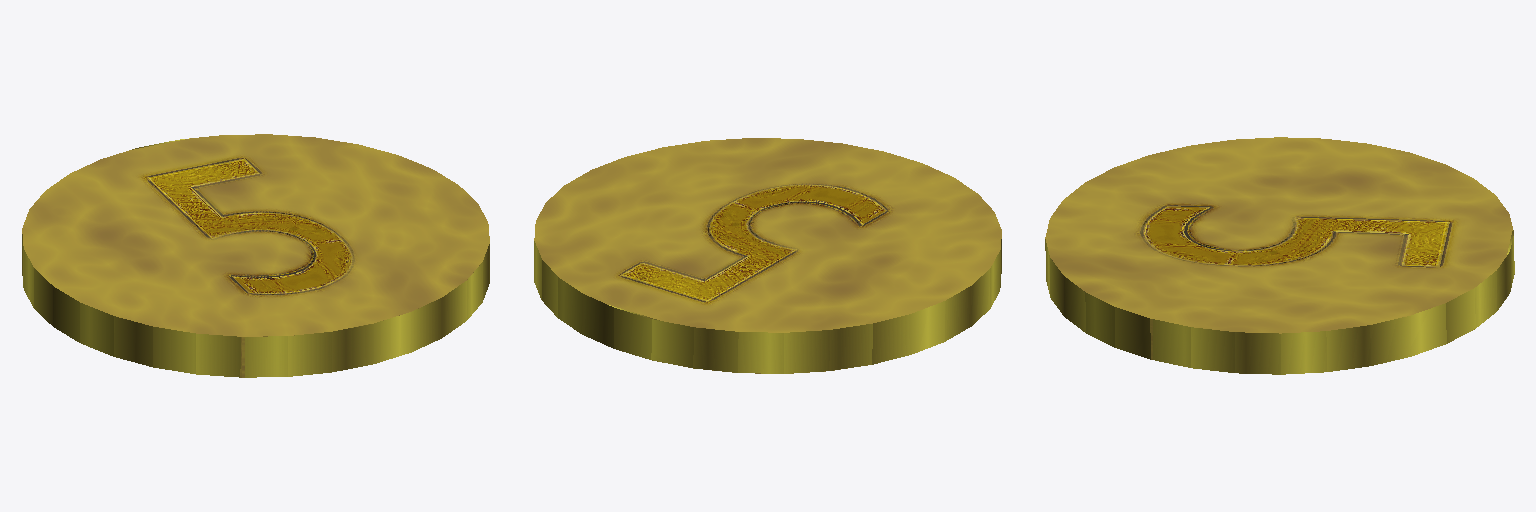
3 renders of one model, left to right at view 1: azimuth 30°, elevation 25°; view 2: azimuth 150°, elevation 25°; view 3: azimuth 270°, elevation 25°, orthographic.
Visible parts, largest first — view 1: Cylinder.002; view 2: Cylinder.002; view 3: Cylinder.002.
Boxes of the visible parts, x1,y1,x2,y2 form: Cylinder.002: [22, 134, 489, 377]; Cylinder.002: [534, 138, 1001, 373]; Cylinder.002: [1045, 137, 1514, 374].
Size of the model in its own units: 0.3012 by 0.0326 by 0.3013.
Materials: 1 (1 with a texture image).